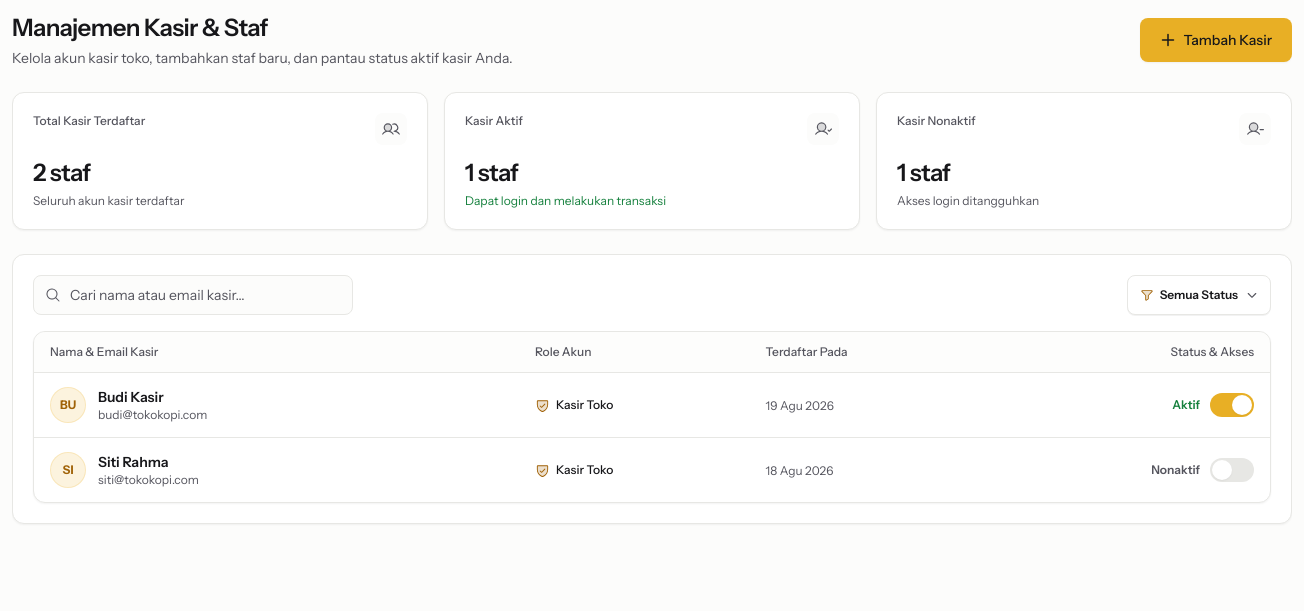
Test: StaffView › toggles cashier active status
// Click switch toggle on first user
Click the switch named "Ubah status kasir Budi Kasir" at (1232, 405), box [1210,393,1254,417]
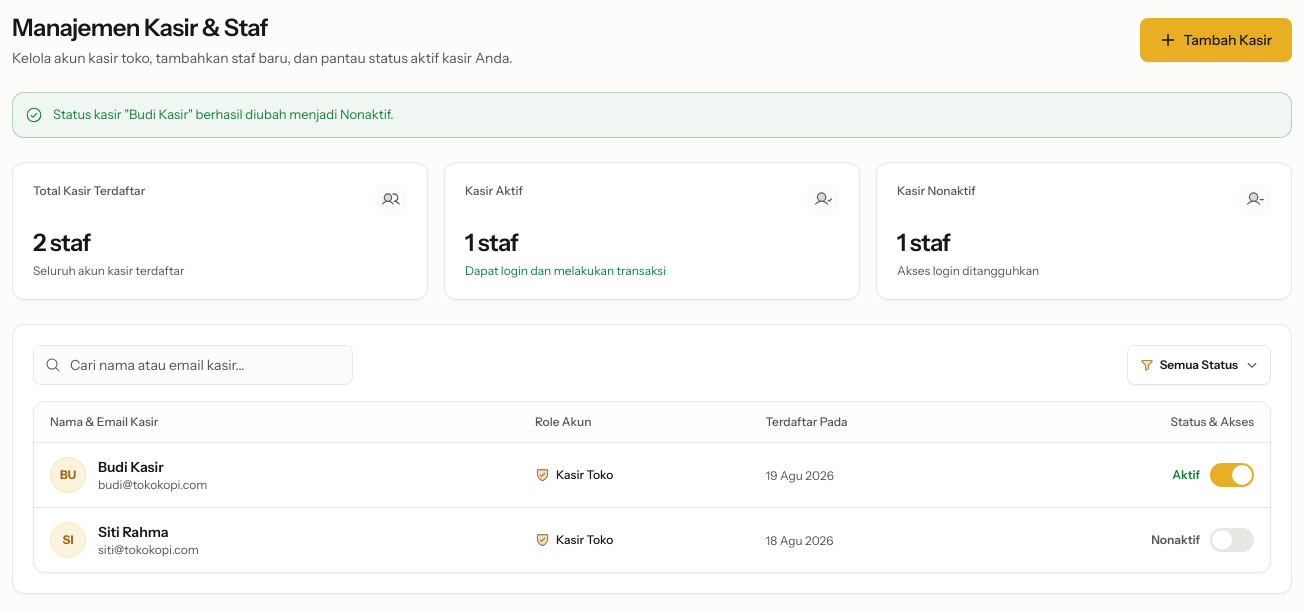
Check: the text "Status kasir \"Budi Kasir\" berhasil diubah menjadi Nonaktif." is shown, box [53,105,394,124]
